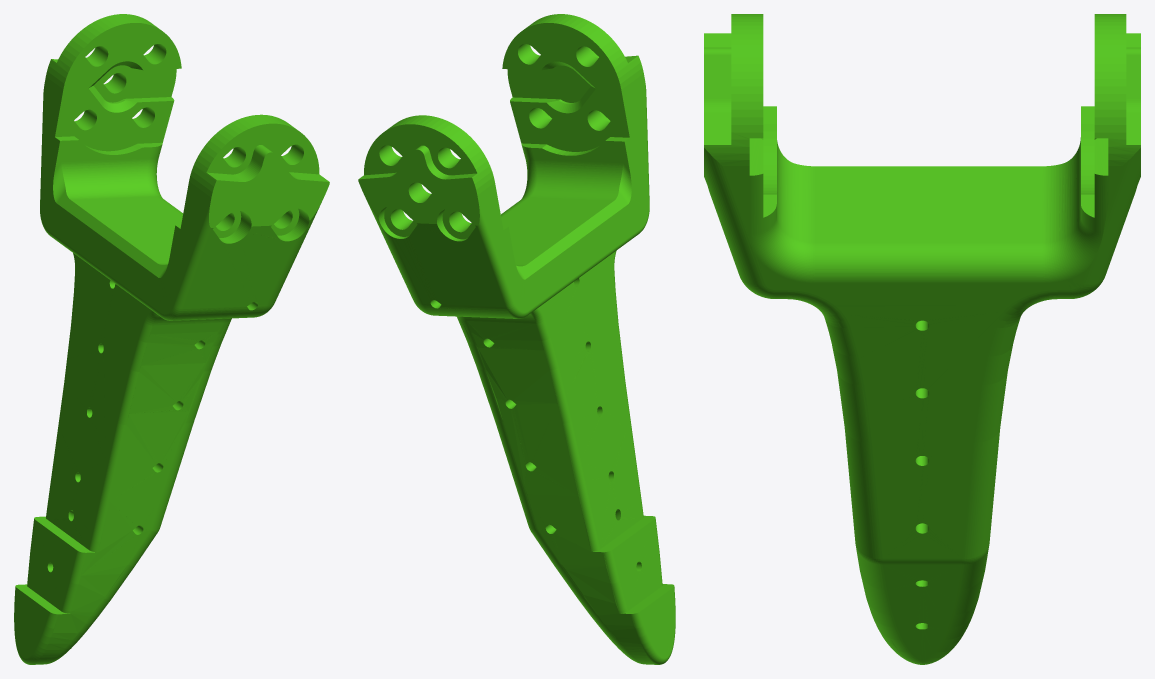
Rendered from arm1_gripper.obj.
3 views of the same model, side by side, from view 1: azimuth 30°, elevation 25°; view 2: azimuth 150°, elevation 25°; view 3: azimuth 270°, elevation 25° (orthographic). The views are drawn at different scales.
Visible parts, largest first — view 1: arm1_gripper_moving_jaw_08d_53; view 2: arm1_gripper_moving_jaw_08d_53; view 3: arm1_gripper_moving_jaw_08d_53.
Part boxes in pixels (x1,y1,x2,y2): arm1_gripper_moving_jaw_08d_53: (14,14,329,664); arm1_gripper_moving_jaw_08d_53: (358,14,675,664); arm1_gripper_moving_jaw_08d_53: (704,14,1140,664).
Size of the model in its own units: 0.0375 by 0.0888 by 0.048.
